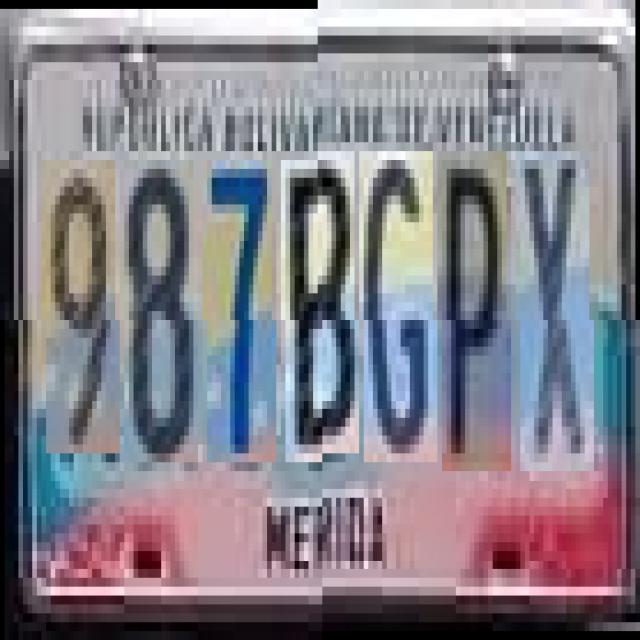7: (207, 160, 276, 462)
8: (124, 160, 198, 462)
9: (46, 160, 120, 453)
B: (286, 160, 360, 462)
G: (364, 160, 437, 471)
P: (442, 160, 511, 480)
X: (520, 160, 594, 480)
